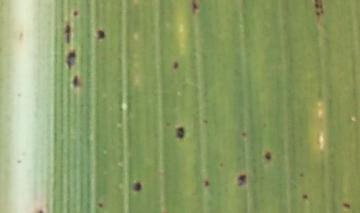tarspot: (65, 48, 76, 68), (95, 28, 106, 41), (236, 173, 247, 186), (175, 125, 185, 139), (65, 24, 71, 44), (71, 73, 79, 87), (133, 181, 142, 192), (190, 1, 199, 12), (263, 151, 272, 161), (171, 59, 179, 70), (312, 1, 322, 9), (342, 201, 352, 209), (300, 192, 309, 200), (313, 9, 321, 17), (72, 8, 79, 17), (240, 129, 247, 138), (96, 201, 104, 208), (217, 160, 225, 167), (203, 116, 209, 125), (203, 179, 210, 186), (298, 171, 305, 178), (38, 209, 43, 213)
